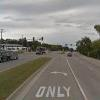Car: (63, 49, 75, 59)
